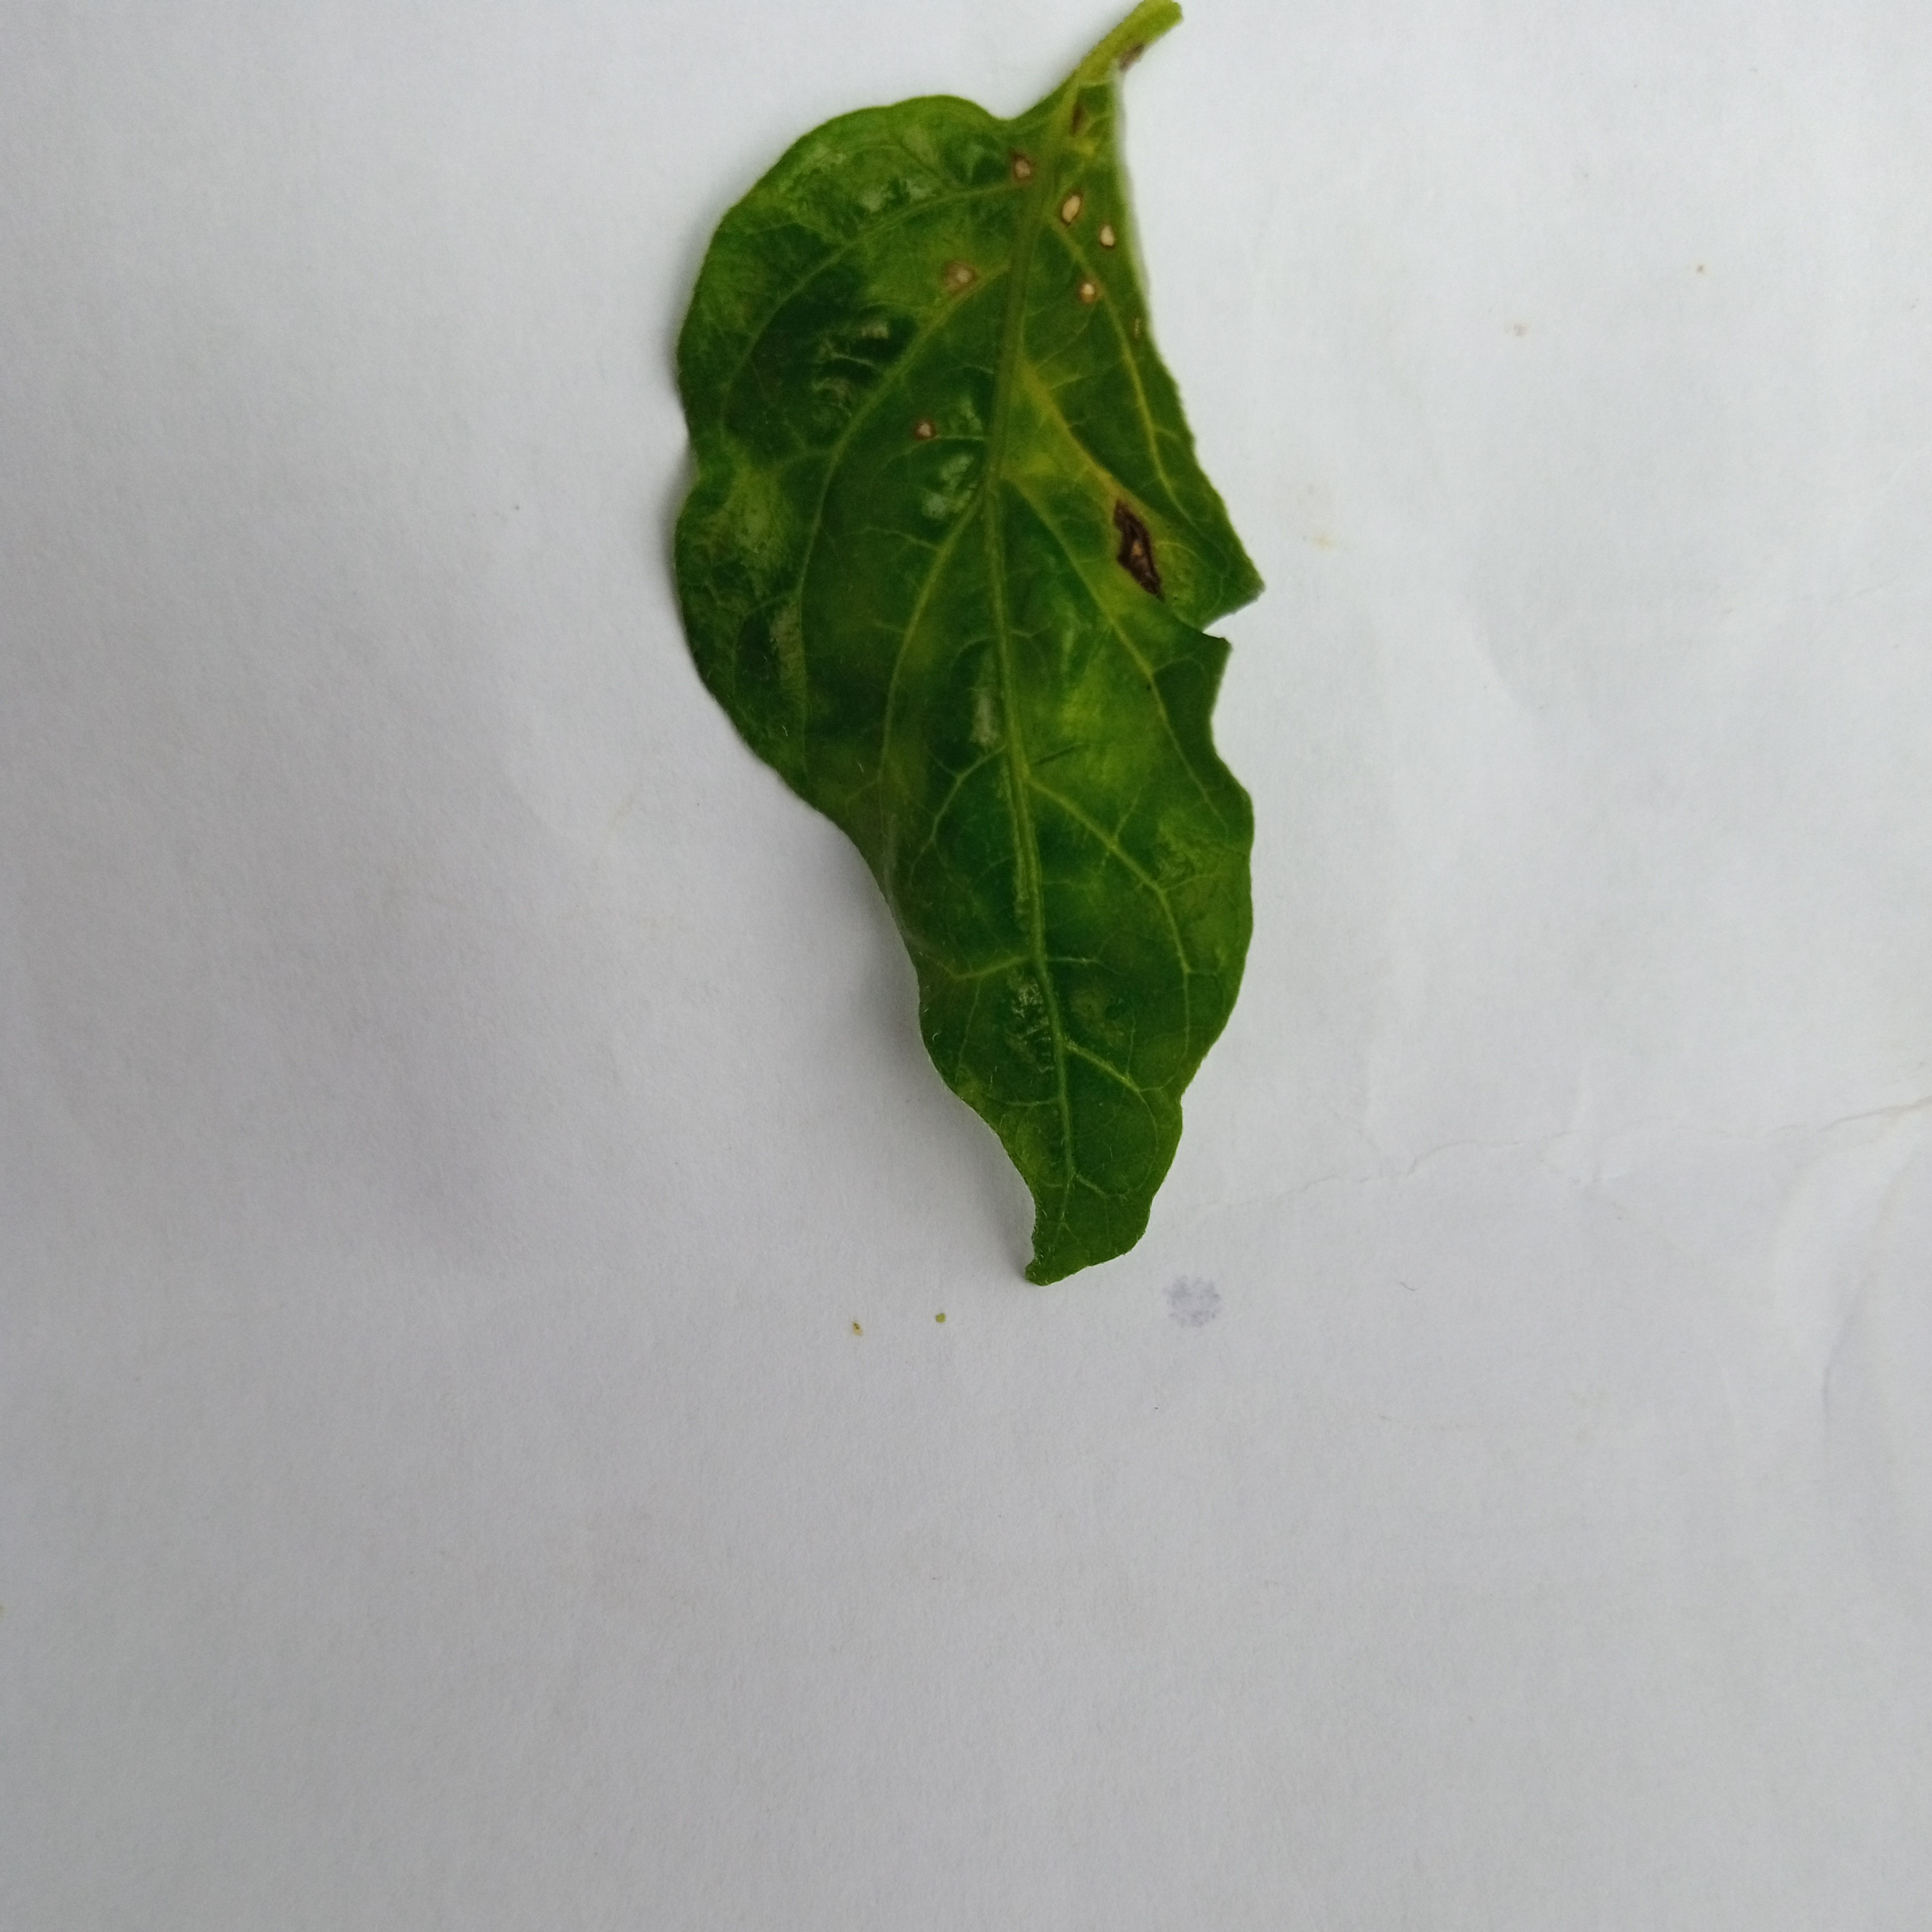Leaf: (483, 4, 1424, 1327)
